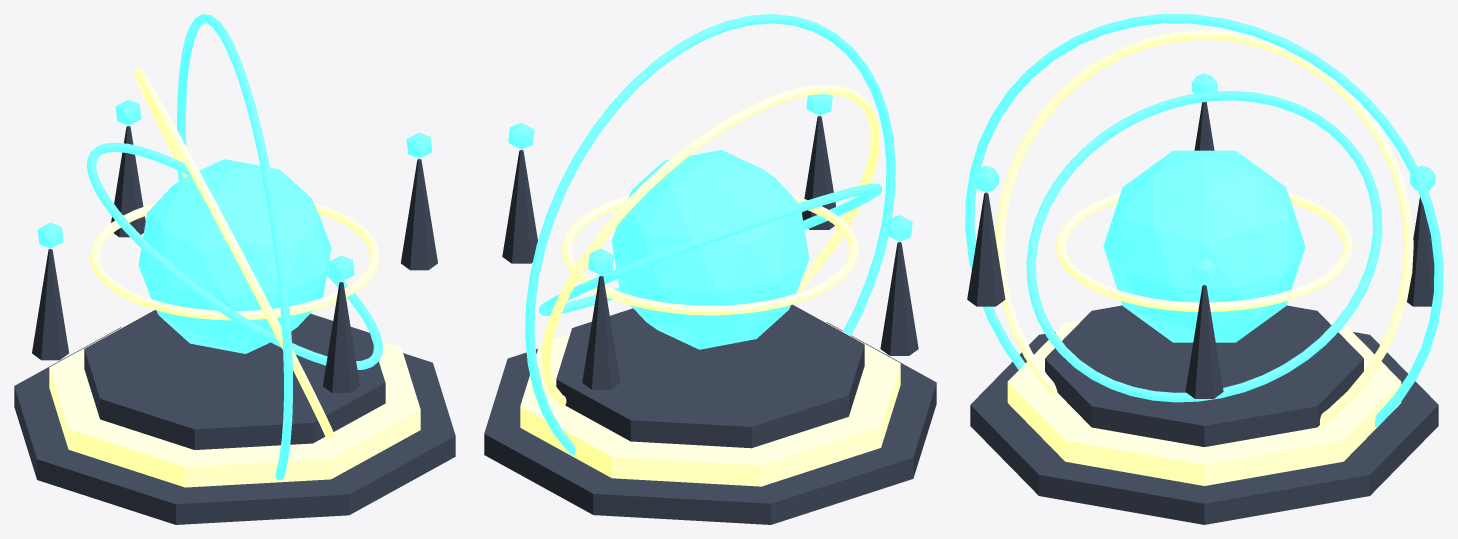
The model's file is gpu-blender-v3.glb.
The picture shows the model from 3 angles, left to right: view 1: azimuth 30°, elevation 25°; view 2: azimuth 150°, elevation 25°; view 3: azimuth 270°, elevation 25°; orthographic projection. The views are drawn at different scales.
Visible parts, largest first — view 1: Cylinder.002, SovereignCore_deepsearch-research-agent, Cylinder, Cylinder.001, Torus.003, Torus.001, Torus.002, Torus, Cone, Cone.002, Cone.003, Cone.001 (+4 smaller); view 2: Cylinder.002, SovereignCore_deepsearch-research-agent, Cylinder, Cylinder.001, Torus.003, Torus.002, Torus, Torus.001, Cone.001, Cone.002, Cone, Cone.003 (+3 smaller); view 3: SovereignCore_deepsearch-research-agent, Cylinder.002, Cylinder, Cylinder.001, Torus.001, Torus.003, Torus.002, Torus, Cone.003, Cone, Cone.001, Cone.002 (+2 smaller).
Boxes of the visible parts, left/top/right/bottom form: Cylinder.002: left=84, top=310, right=385, bottom=449; SovereignCore_deepsearch-research-agent: left=138, top=159, right=331, bottom=353; Cylinder: left=14, top=327, right=455, bottom=524; Cylinder.001: left=49, top=318, right=420, bottom=487; Torus.003: left=177, top=14, right=292, bottom=480; Torus.001: left=87, top=142, right=382, bottom=369; Torus.002: left=134, top=69, right=334, bottom=438; Torus: left=90, top=203, right=379, bottom=320; Cone: left=401, top=159, right=437, bottom=270; Cone.002: left=32, top=249, right=68, bottom=360; Cone.003: left=323, top=282, right=359, bottom=392; Cone.001: left=111, top=126, right=145, bottom=237; Cylinder.002: left=556, top=304, right=864, bottom=448; SovereignCore_deepsearch-research-agent: left=611, top=150, right=809, bottom=349; Cylinder: left=484, top=322, right=936, bottom=524; Cylinder.001: left=520, top=313, right=900, bottom=486; Torus.003: left=525, top=14, right=895, bottom=455; Torus.002: left=541, top=84, right=879, bottom=406; Torus: left=562, top=195, right=858, bottom=315; Torus.001: left=539, top=183, right=881, bottom=315; Cone.001: left=582, top=276, right=620, bottom=389; Cone.002: left=880, top=242, right=918, bottom=355; Cone: left=502, top=150, right=537, bottom=263; Cone.003: left=802, top=116, right=835, bottom=229; SovereignCore_deepsearch-research-agent: left=1103, top=150, right=1305, bottom=342; Cylinder.002: left=1045, top=305, right=1363, bottom=446; Cylinder: left=970, top=332, right=1438, bottom=524; Cylinder.001: left=1007, top=320, right=1401, bottom=485; Torus.001: left=1026, top=91, right=1382, bottom=402; Torus.003: left=965, top=14, right=1443, bottom=427; Torus.002: left=995, top=30, right=1413, bottom=426; Torus: left=1056, top=192, right=1352, bottom=311; Cone.003: left=967, top=192, right=1005, bottom=306; Cone: left=1185, top=285, right=1223, bottom=398; Cone.001: left=1407, top=197, right=1434, bottom=306; Cone.002: left=1194, top=102, right=1214, bottom=150.
Size of the model in its own units: 4.41 by 4.7 by 4.49.
